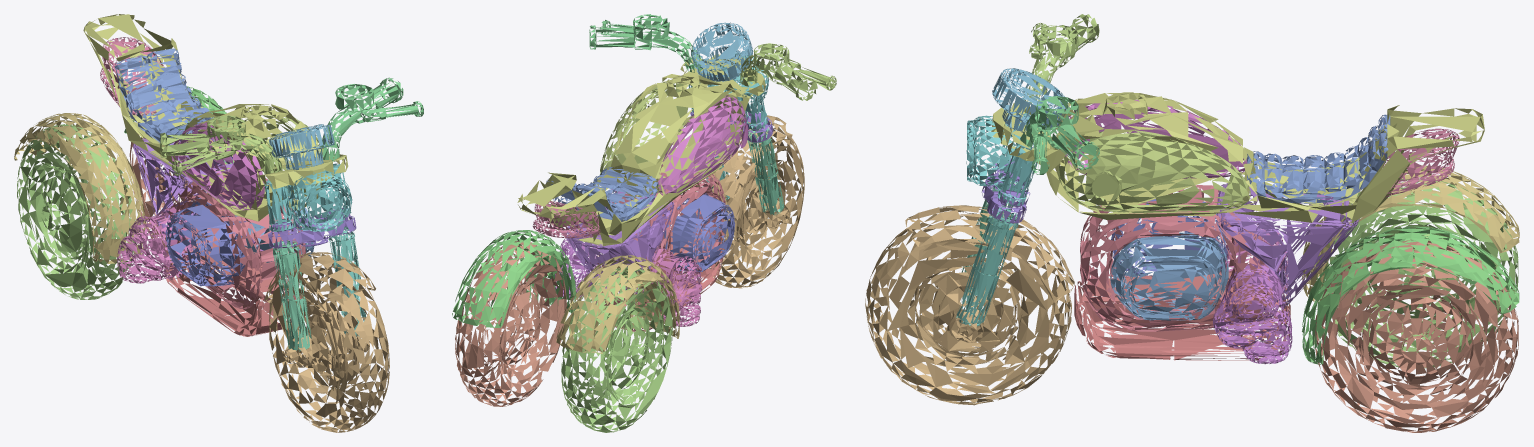
3 views of the same model, side by side, from view 1: azimuth 30°, elevation 25°; view 2: azimuth 150°, elevation 25°; view 3: azimuth 270°, elevation 25° (orthographic). The views are drawn at different scales.
Visible parts, largest first — view 1: mt__geometry_4_140, mt__geometry_16_111, mt__geometry_20_059, mt__geometry_13_133, mt__geometry_10_139, mt__geometry_8_138, mt__geometry_17_088, mt__geometry_14_119, mt__geometry_9_138, mt__geometry_7_138, mt__geometry_6_138, mt__geometry_15_117 (+11 smaller); view 2: mt__geometry_20_059, mt__geometry_16_111, mt__geometry_18_076, mt__geometry_4_140, mt__geometry_23_030, mt__geometry_13_133, mt__geometry_6_138, mt__geometry_17_088, mt__geometry_12_133, mt__geometry_8_138, mt__geometry_21_038, mt__geometry_11_133 (+10 smaller); view 3: mt__geometry_4_140, mt__geometry_18_076, mt__geometry_20_059, mt__geometry_0_141, mt__geometry_10_139, mt__geometry_23_030, mt__geometry_16_111, mt__geometry_9_138, mt__geometry_1_141, mt__geometry_12_133, mt__geometry_8_138, mt__geometry_2_141 (+10 smaller).
Boxes of the visible parts, x1=… form: mt__geometry_4_140: x1=264, y1=252, x2=389, y2=432; mt__geometry_16_111: x1=17, y1=124, x2=136, y2=299; mt__geometry_20_059: x1=83, y1=14, x2=348, y2=221; mt__geometry_13_133: x1=14, y1=113, x2=146, y2=263; mt__geometry_10_139: x1=169, y1=170, x2=305, y2=309; mt__geometry_8_138: x1=114, y1=48, x2=213, y2=145; mt__geometry_17_088: x1=166, y1=198, x2=245, y2=286; mt__geometry_14_119: x1=264, y1=163, x2=352, y2=231; mt__geometry_9_138: x1=164, y1=233, x2=301, y2=336; mt__geometry_7_138: x1=160, y1=115, x2=282, y2=175; mt__geometry_6_138: x1=171, y1=122, x2=264, y2=210; mt__geometry_15_117: x1=117, y1=207, x2=192, y2=283; mt__geometry_20_059: x1=517, y1=54, x2=765, y2=246; mt__geometry_16_111: x1=561, y1=267, x2=672, y2=432; mt__geometry_18_076: x1=455, y1=241, x2=566, y2=406; mt__geometry_4_140: x1=695, y1=115, x2=804, y2=288; mt__geometry_23_030: x1=452, y1=230, x2=576, y2=327; mt__geometry_13_133: x1=556, y1=255, x2=679, y2=353; mt__geometry_6_138: x1=656, y1=94, x2=748, y2=194; mt__geometry_17_088: x1=663, y1=193, x2=735, y2=271; mt__geometry_12_133: x1=566, y1=189, x2=674, y2=293; mt__geometry_8_138: x1=546, y1=167, x2=658, y2=221; mt__geometry_21_038: x1=691, y1=22, x2=752, y2=81; mt__geometry_11_133: x1=589, y1=14, x2=703, y2=72; mt__geometry_4_140: x1=865, y1=205, x2=1074, y2=405; mt__geometry_18_076: x1=1314, y1=239, x2=1518, y2=432; mt__geometry_20_059: x1=991, y1=92, x2=1484, y2=223; mt__geometry_0_141: x1=1058, y1=130, x2=1250, y2=213; mt__geometry_10_139: x1=1080, y1=185, x2=1273, y2=331; mt__geometry_23_030: x1=1302, y1=226, x2=1519, y2=364; mt__geometry_16_111: x1=1314, y1=178, x2=1518, y2=368; mt__geometry_9_138: x1=1074, y1=272, x2=1290, y2=360; mt__geometry_1_141: x1=1110, y1=232, x2=1228, y2=320; mt__geometry_12_133: x1=1216, y1=183, x2=1359, y2=305; mt__geometry_8_138: x1=1247, y1=114, x2=1390, y2=203; mt__geometry_2_141: x1=1213, y1=264, x2=1292, y2=364.
Bounding box in the file's own units: 0.4983 × 0.5631 × 1.
